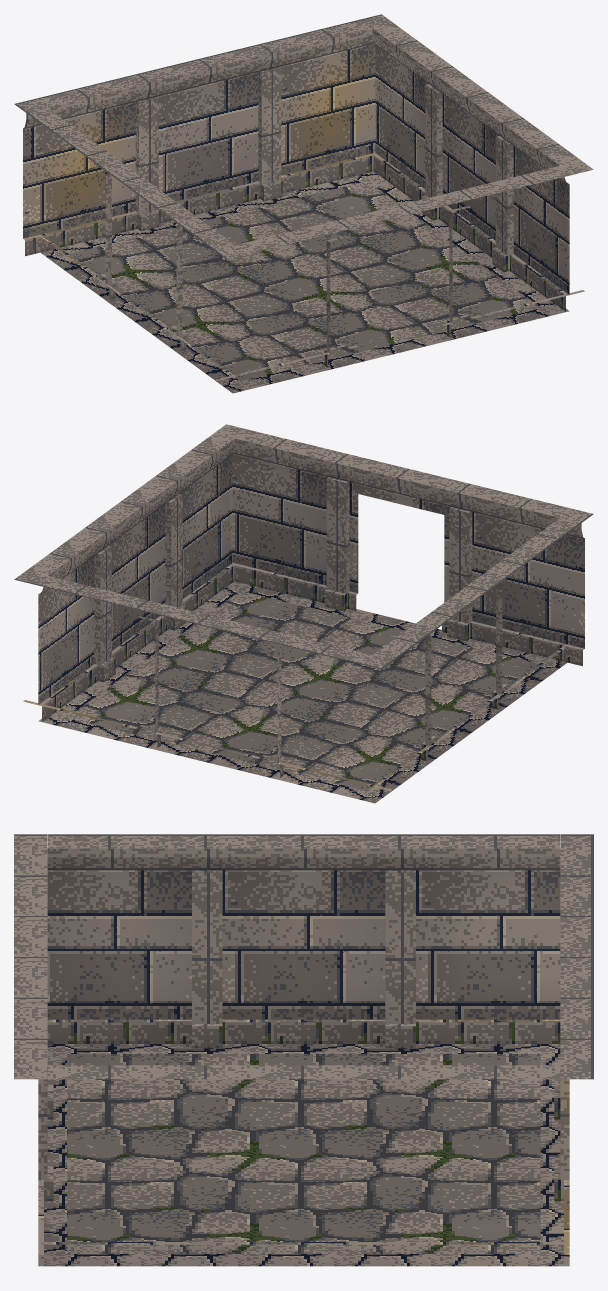
The model's file is dgn.room__medium.glb.
3 views of the same model, one above another, from view 1: azimuth 30°, elevation 25°; view 2: azimuth 150°, elevation 25°; view 3: azimuth 270°, elevation 25° (orthographic). The views are drawn at different scales.
Parts seen in each view (by area): view 1: kit_shell_walls, kit_shell_floor; view 2: kit_shell_walls, kit_shell_floor; view 3: kit_shell_walls, kit_shell_floor.
Boxes of the visible parts, x1,y1,x2,y2 form: kit_shell_walls: (14, 14, 593, 380); kit_shell_floor: (40, 171, 569, 393); kit_shell_walls: (14, 424, 593, 790); kit_shell_floor: (38, 581, 567, 803); kit_shell_walls: (14, 834, 593, 1254); kit_shell_floor: (38, 1044, 569, 1266).
Bounding box in the file's own units: 12 × 4.5 × 12.
Materials: 5 (5 with a texture image).
